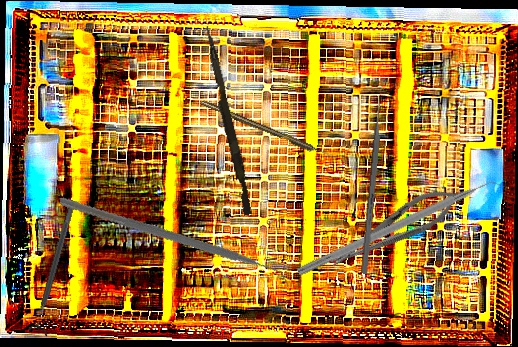Chopper: (59, 149, 290, 341), (296, 172, 511, 287)
Fixation Ring: (26, 197, 84, 337)
Hook Surgical: (200, 98, 333, 161)
Needle Holder: (323, 178, 465, 279)
Pusher: (197, 25, 258, 216), (360, 87, 385, 274)
